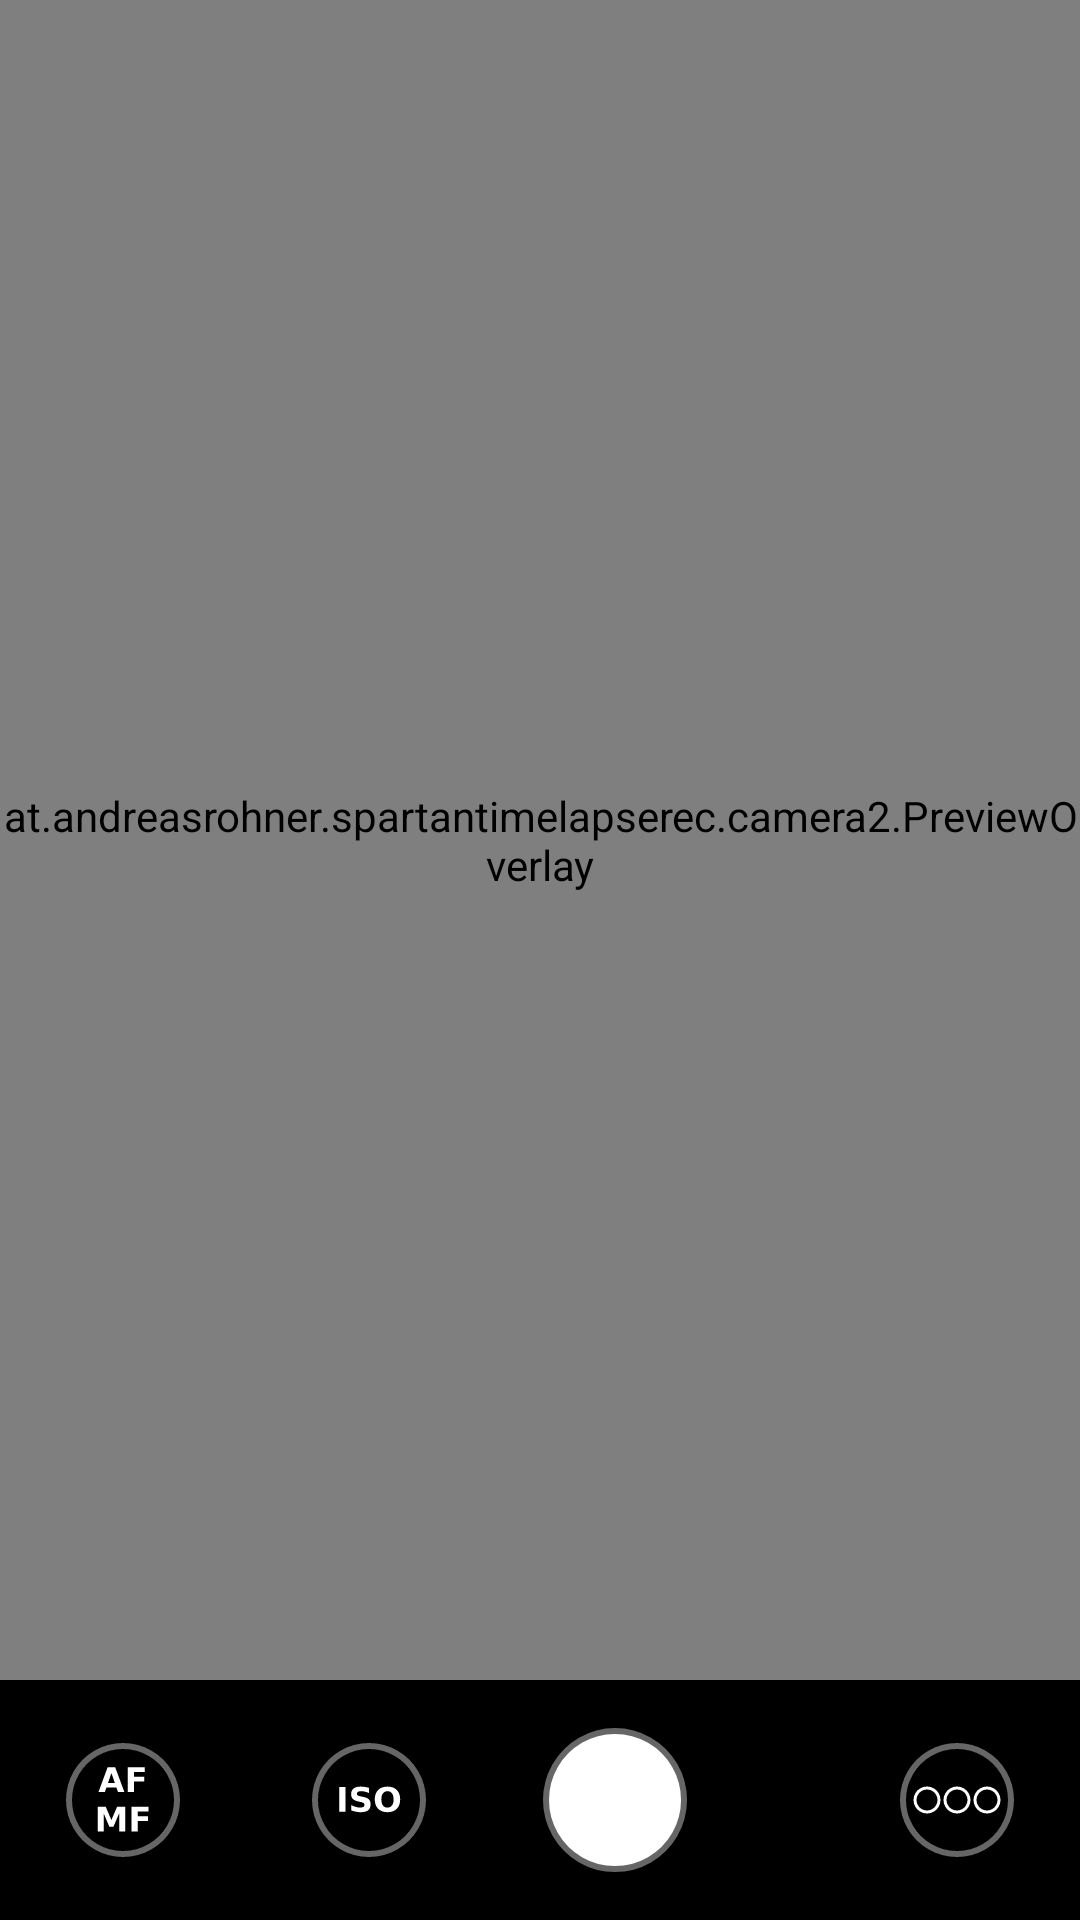

Icons on this 1080x1920 Android screen, each with its box as rect(x1, y1, x2, y2):
cam bt menu: rect(900, 1743, 1014, 1857)
shutter: rect(543, 1728, 687, 1872)
